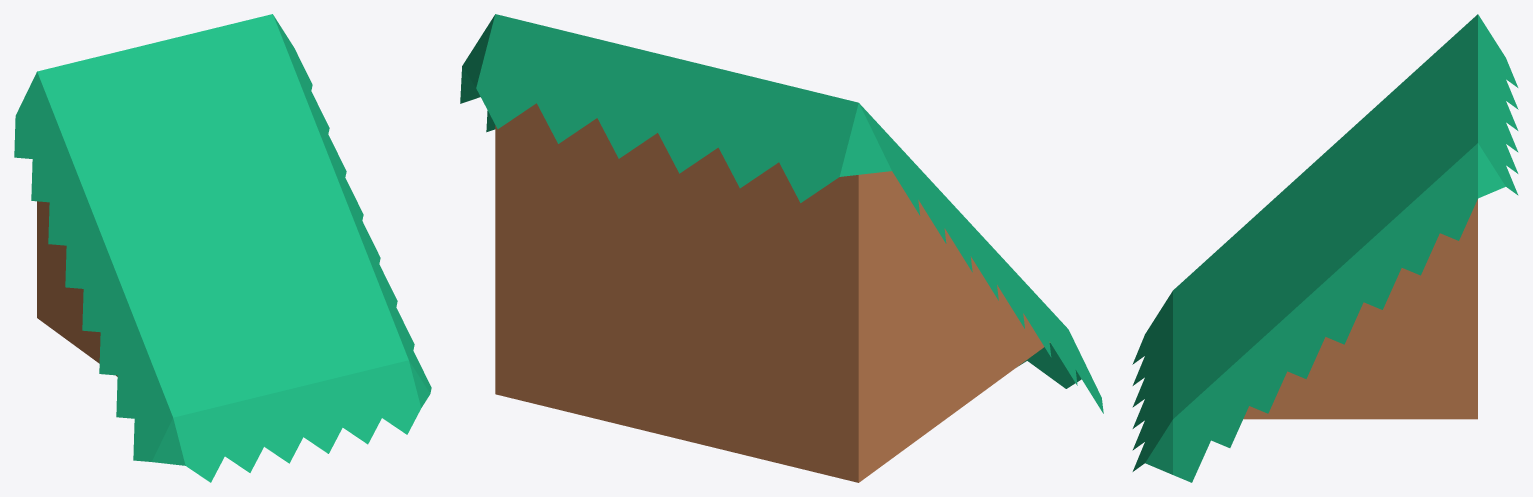
The model's file is blockSlope.fbx.
The picture shows the model from 3 angles, left to right: view 1: azimuth 30°, elevation 25°; view 2: azimuth 150°, elevation 25°; view 3: azimuth 270°, elevation 25°; orthographic projection. The views are drawn at different scales.
Visible parts, largest first — view 1: blockSlope; view 2: blockSlope; view 3: blockSlope.
Boxes of the visible parts, x1,y1,x2,y2 form: blockSlope: [14, 14, 431, 482]; blockSlope: [460, 14, 1103, 482]; blockSlope: [1132, 14, 1518, 482].
Size of the model in its own units: 12.66 by 12.3 by 12.66.
